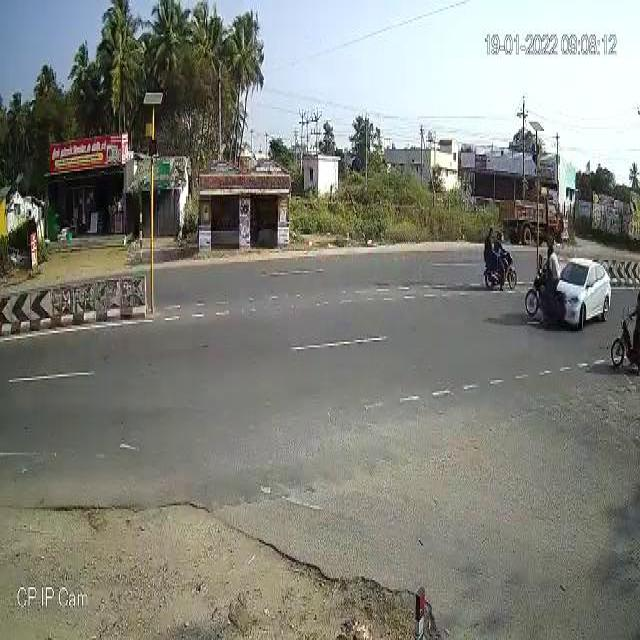accident: (520, 222, 614, 340)
